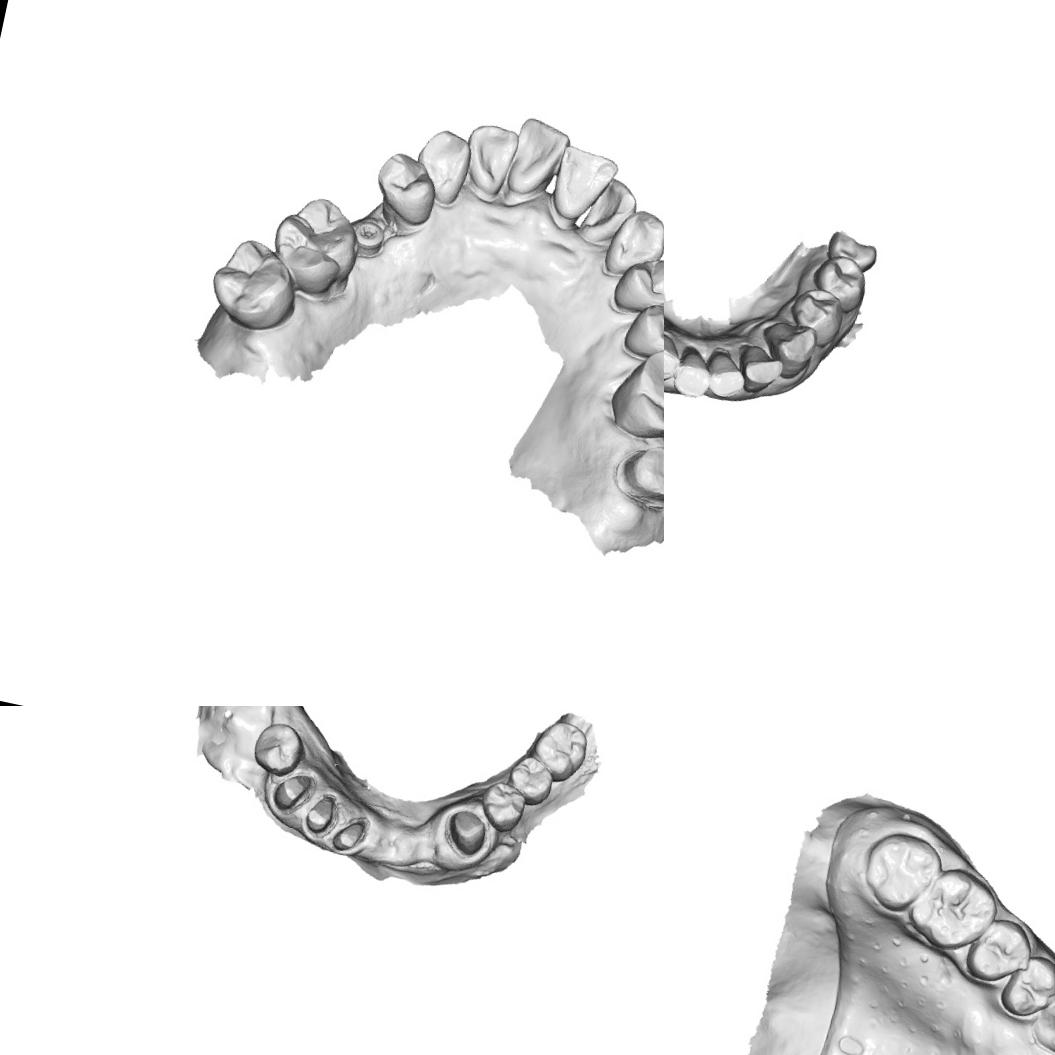canine: (405, 122, 475, 212), (599, 202, 664, 285), (754, 316, 822, 384), (1028, 990, 1055, 1055)
crown: (608, 434, 664, 514), (438, 804, 492, 863), (269, 766, 318, 819), (299, 789, 342, 842), (326, 810, 372, 858)
implant_plus: (346, 218, 389, 262)
incisor: (542, 138, 624, 230), (500, 112, 574, 204), (458, 119, 521, 201), (576, 170, 642, 246), (732, 341, 788, 400), (701, 342, 753, 404), (669, 341, 720, 404), (664, 327, 684, 388)
molar: (201, 231, 312, 342), (902, 858, 1004, 962), (268, 192, 367, 299), (854, 825, 949, 924), (604, 338, 664, 451), (527, 716, 592, 787)
premolar: (368, 147, 443, 230), (961, 911, 1038, 991), (995, 947, 1055, 1025), (782, 282, 850, 350), (804, 249, 872, 317), (605, 245, 664, 322), (616, 290, 664, 369), (249, 717, 308, 780), (473, 776, 531, 838), (502, 750, 558, 810)
